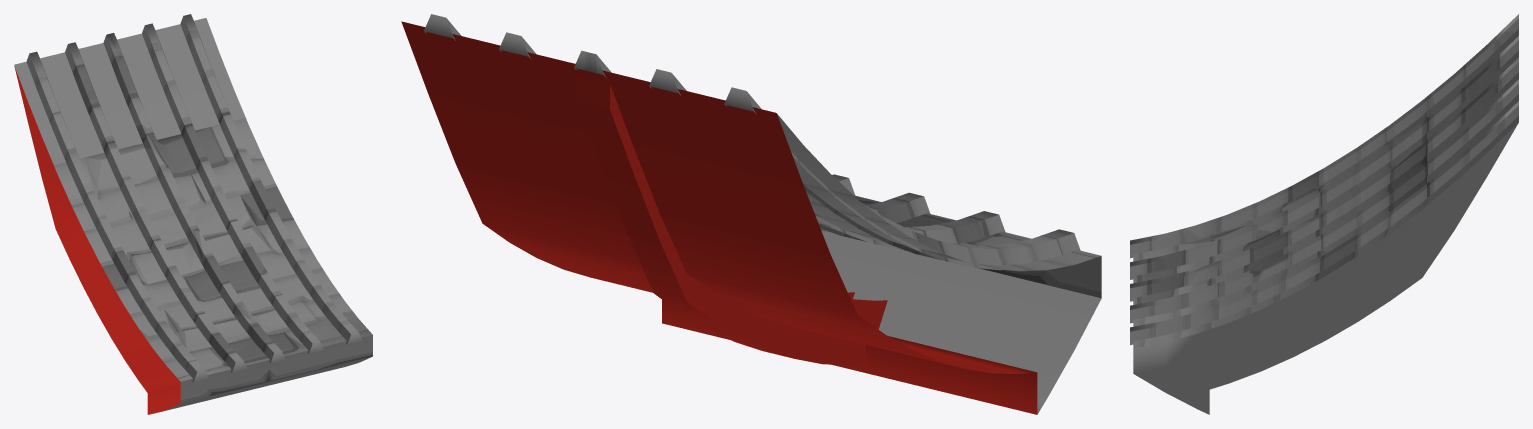
File: SM_Bld_Kawara_S_Half_01.fbx
The picture shows the model from 3 angles, left to right: view 1: azimuth 30°, elevation 25°; view 2: azimuth 150°, elevation 25°; view 3: azimuth 270°, elevation 25°; orthographic projection. The views are drawn at different scales.
Visible parts, largest first — view 1: SM_Bld_Kawara_S_Half_01; view 2: SM_Bld_Kawara_S_Half_01; view 3: SM_Bld_Kawara_S_Half_01.
Part boxes in pixels (left/top/right/bottom): SM_Bld_Kawara_S_Half_01: left=14, top=14, right=372, bottom=414; SM_Bld_Kawara_S_Half_01: left=401, top=14, right=1101, bottom=414; SM_Bld_Kawara_S_Half_01: left=1130, top=14, right=1518, bottom=414.
Size of the model in its own units: 2.5 by 3.23 by 3.78.
